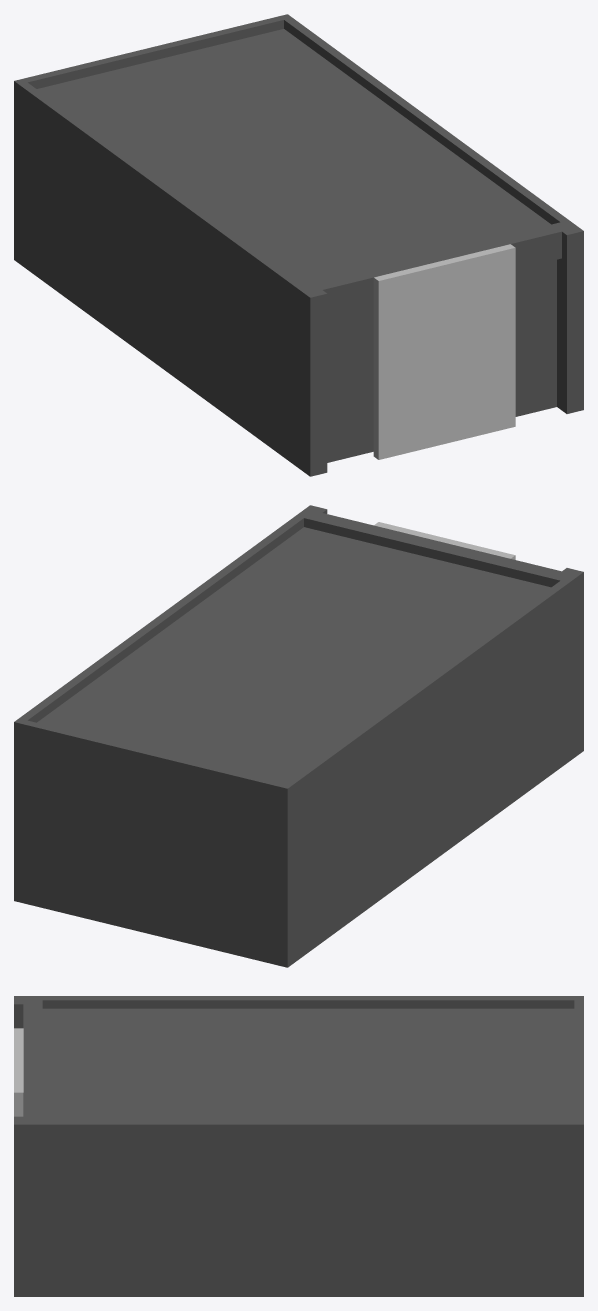
The model's file is bld_story06d.obj.
3 renders of one model, top to bottom at view 1: azimuth 30°, elevation 25°; view 2: azimuth 150°, elevation 25°; view 3: azimuth 270°, elevation 25°, orthographic. The views are drawn at different scales.
Size of the model in its own units: 32 by 20 by 60.
